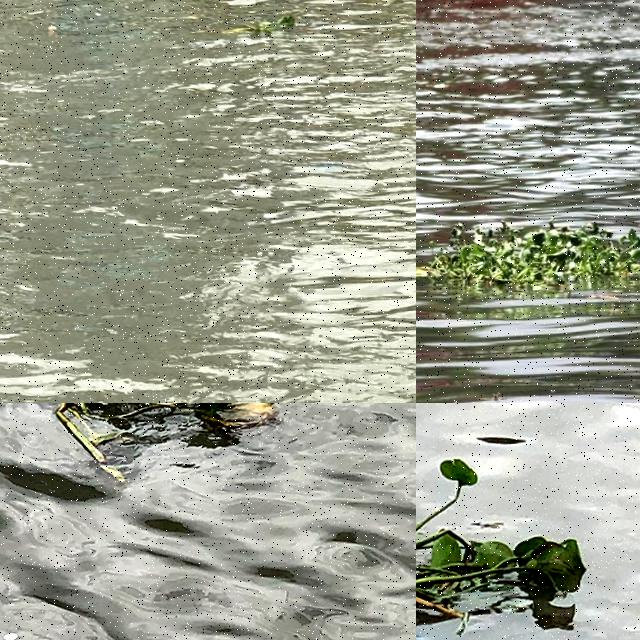water-hyacinth: (417, 454, 591, 629), (417, 206, 640, 296), (238, 18, 293, 33)
